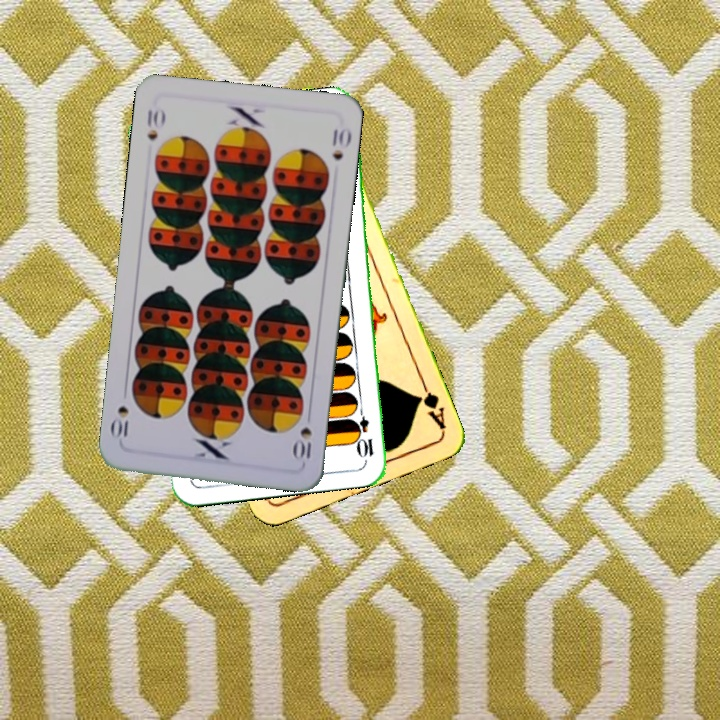E10: (355, 401, 376, 460)
GA: (412, 376, 449, 433)
S10: (291, 422, 315, 466), (143, 105, 167, 143)
